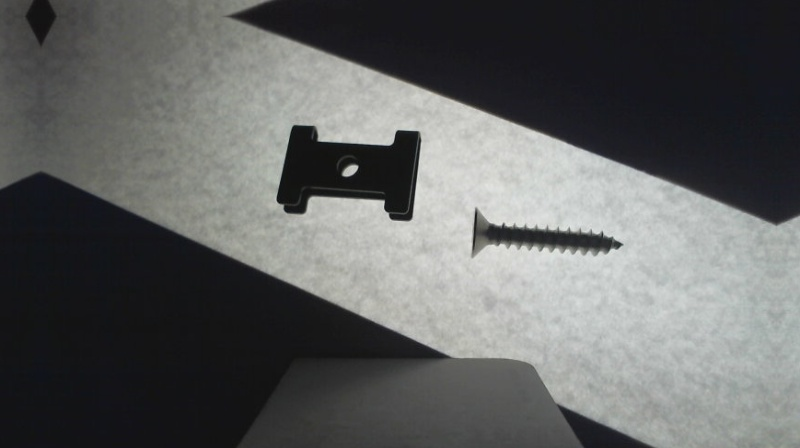O002: (274, 125, 427, 221)
S001: (468, 205, 624, 258)
